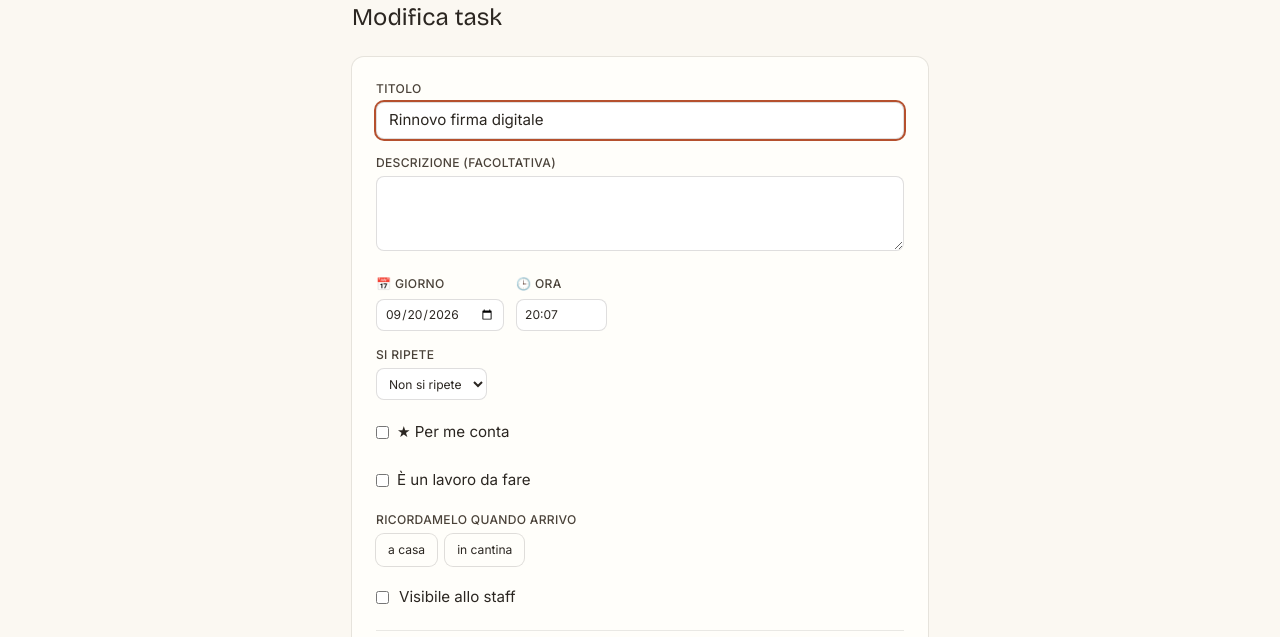
Test: 🔴 un orario storico resta com'è › le 20:07 si rileggono, e il minuto compare marcato
Click the button "20:07": (561, 315) [516,299,607,331]
(page scrolled)
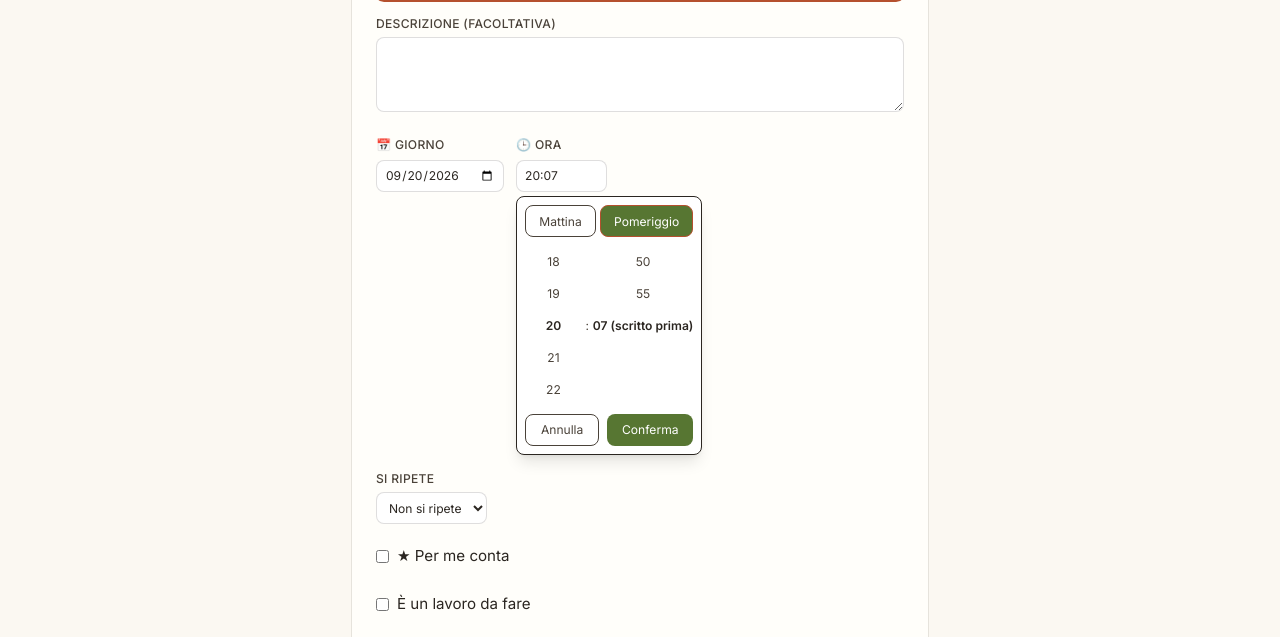
Now the option "07 (scritto prima)" is shown, box [593,310,693,342]
